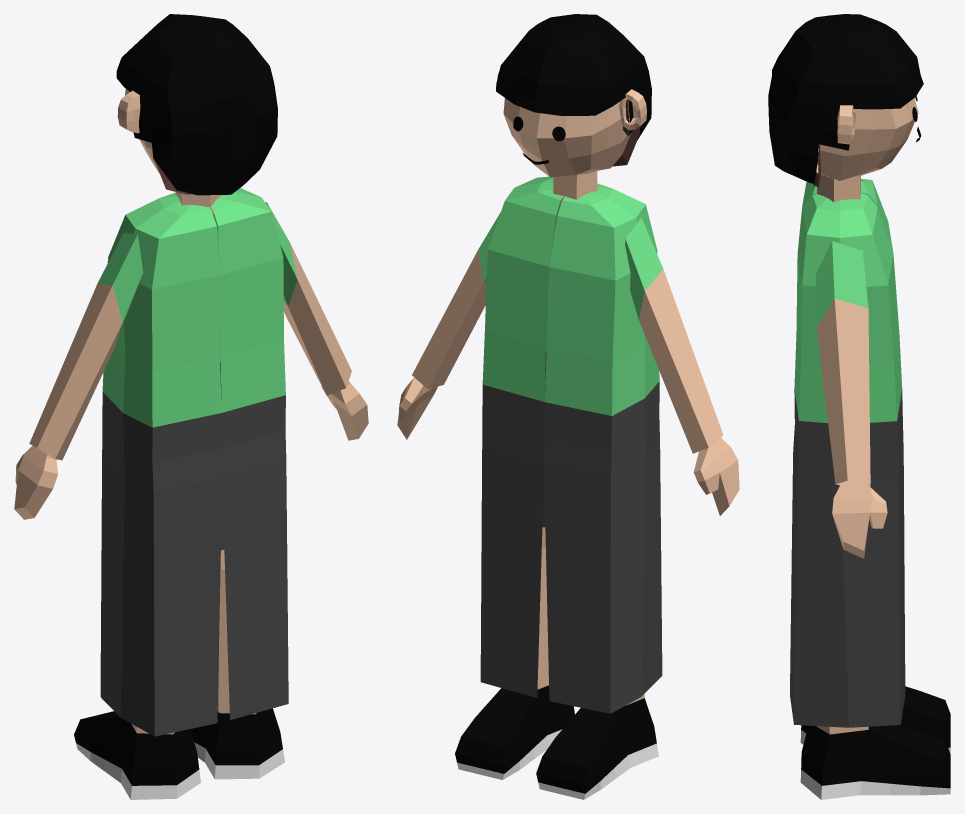
Rendered from parent02.fbx.
3 renders of one model, left to right at view 1: azimuth 30°, elevation 25°; view 2: azimuth 150°, elevation 25°; view 3: azimuth 270°, elevation 25°, orthographic. The views are drawn at different scales.
Visible parts, largest first — view 1: pa02_body, pa02_hair, pa02_arm, pa02_leg, pa02_ear; view 2: pa02_body, pa02_arm, pa02_leg, pa02_hair, pa02_head, pa02_neck, pa02_ear; view 3: pa02_body, pa02_hair, pa02_arm, pa02_leg, pa02_head, pa02_neck, pa02_ear.
Boxes of the visible parts, <box> form: pa02_body: <box>100,188,288,736</box>; pa02_hair: <box>116,14,277,195</box>; pa02_arm: <box>14,202,368,519</box>; pa02_leg: <box>74,549,284,799</box>; pa02_ear: <box>117,90,140,133</box>; pa02_body: <box>480,176,662,713</box>; pa02_arm: <box>397,212,739,515</box>; pa02_leg: <box>455,527,658,799</box>; pa02_hair: <box>496,14,651,139</box>; pa02_head: <box>503,98,640,177</box>; pa02_neck: <box>553,171,597,204</box>; pa02_ear: <box>497,72,646,130</box>; pa02_body: <box>790,179,905,727</box>; pa02_hair: <box>768,14,923,183</box>; pa02_arm: <box>816,241,887,558</box>; pa02_leg: <box>800,686,950,799</box>; pa02_head: <box>813,98,918,186</box>; pa02_neck: <box>817,156,860,202</box>; pa02_ear: <box>837,105,855,144</box>.
Size of the model in its own units: 174 by 80.95 by 362.
